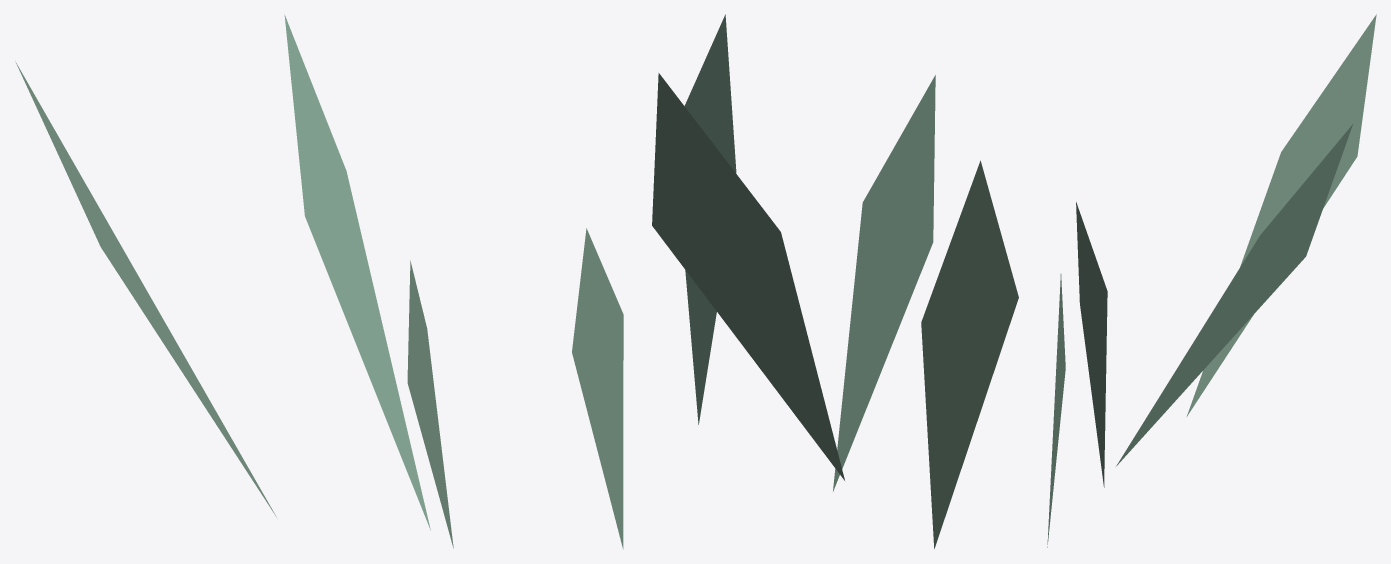
The model's file is grass-tile.glb.
3 views of the same model, side by side, from view 1: azimuth 30°, elevation 25°; view 2: azimuth 150°, elevation 25°; view 3: azimuth 270°, elevation 25° (orthographic). The views are drawn at different scales.
Parts seen in each view (by area): view 1: Plane; view 2: Plane; view 3: Plane.
Boxes of the visible parts, bbox=[...] form: Plane: bbox=[15, 15, 623, 549]; Plane: bbox=[652, 14, 1018, 548]; Plane: bbox=[1047, 14, 1376, 547].
Bounding box in the file's own units: 1.91 × 1.94 × 1.56.
